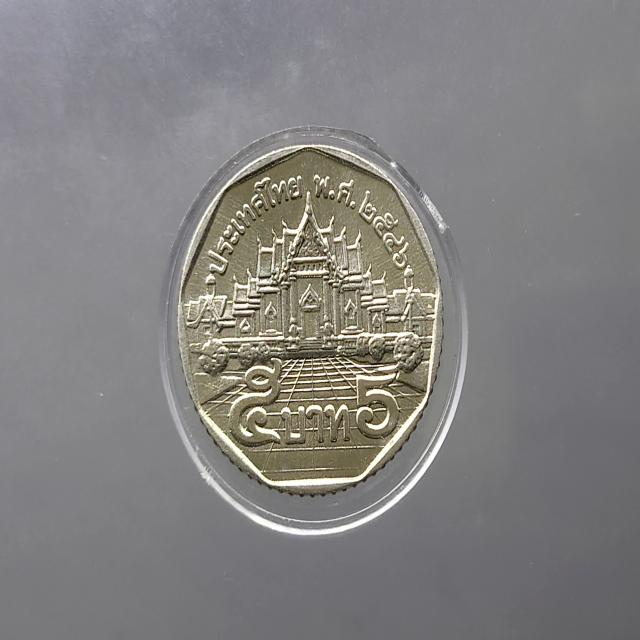5 Bath: (173, 141, 447, 504)
